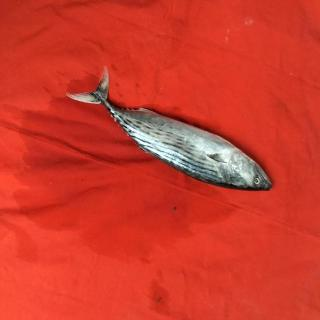Ikan: (64, 63, 282, 203)
